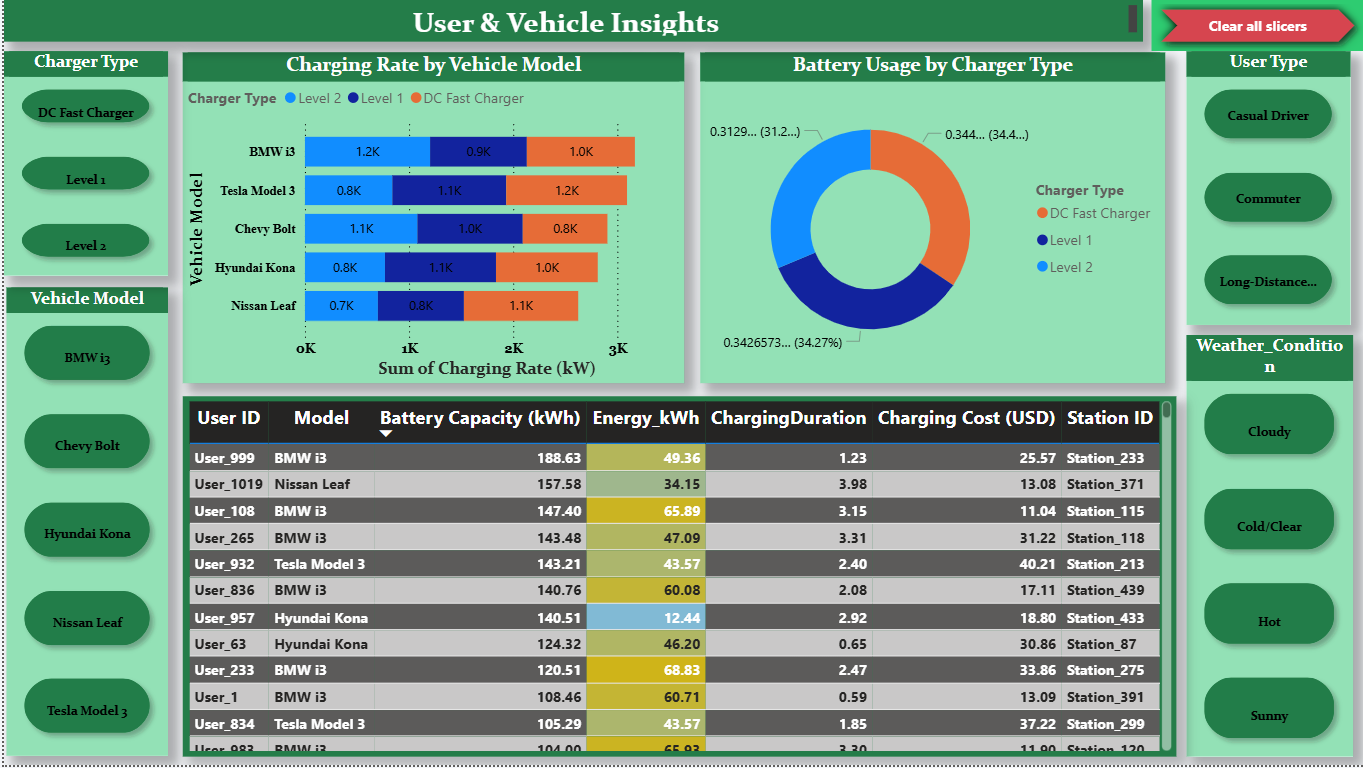

This screenshot's page, from the dashboard's own definition file:
{"tool":"powerbi","page":{"name":"User & Vehicle Insights ","canvas":[1280,720],"ordinal":2},"visuals":[{"type":"barChart","title":"Charging Rate by Vehicle Model","fields":{"Category":["dashboard_sessions.Vehicle Model"],"Y":["Sum(dashboard_sessions.Charging Rate (kW))"],"Series":["dashboard_sessions.Charger Type"]},"box":[167.8,48.9,472.2,311.1],"z":0},{"type":"donutChart","title":"Battery Usage by Charger Type","fields":{"Category":["dashboard_sessions.Charger Type"],"Y":["measure Table.ChargerTypePct"]},"box":[655.6,48.9,437.8,311.1],"z":1000},{"type":"textbox","box":[0,0,1071.8,38.8],"z":2000},{"type":"advancedSlicerVisual","fields":{"Values":["dashboard_sessions.Vehicle Model"]},"box":[2.2,271.1,152.2,441.1],"z":3000},{"type":"advancedSlicerVisual","fields":{"Values":["dashboard_sessions.User Type"]},"box":[1113.3,47.8,154.4,257.8],"z":4000},{"type":"advancedSlicerVisual","fields":{"Values":["dashboard_sessions.Charger Type"]},"box":[0,47.8,154.4,211.1],"z":5000},{"type":"advancedSlicerVisual","fields":{"Values":["dashboard_sessions.Weather_Condition"]},"box":[1113.3,315.6,156.7,396.7],"z":6000},{"type":"tableEx","fields":{"Values":["dashboard_sessions.User ID","dashboard_sessions.Vehicle Model","Sum(dashboard_sessions.Battery Capacity (kWh))","Sum(dashboard_sessions.Energy_kWh)","Sum(dashboard_sessions.Charging_Duration_hours)","Sum(dashboard_sessions.Charging Cost (USD))","dashboard_sessions.Charging Station ID"]},"box":[167.8,373.3,935.6,338.9],"z":7000},{"type":"actionButton","box":[1080,0,200,48.2],"z":7001}]}

Visuals, with their boxes in screenshot pixels (x1, y1, x2, y2), scaled from the page's 1280x720 canvas onto the 1363x768 screenshot:
"Charging Rate by Vehicle Model" barChart: <bbox>179, 52, 682, 384</bbox>
"Battery Usage by Charger Type" donutChart: <bbox>698, 52, 1164, 384</bbox>
textbox: <bbox>0, 0, 1141, 41</bbox>
advancedSlicerVisual - dashboard_sessions.Vehicle Model: <bbox>2, 289, 164, 760</bbox>
advancedSlicerVisual - dashboard_sessions.User Type: <bbox>1185, 51, 1350, 326</bbox>
advancedSlicerVisual - dashboard_sessions.Charger Type: <bbox>0, 51, 164, 276</bbox>
advancedSlicerVisual - dashboard_sessions.Weather_Condition: <bbox>1185, 337, 1352, 760</bbox>
tableEx - dashboard_sessions.User ID x dashboard_sessions.Vehicle Model: <bbox>179, 398, 1175, 760</bbox>
actionButton: <bbox>1150, 0, 1362, 51</bbox>
